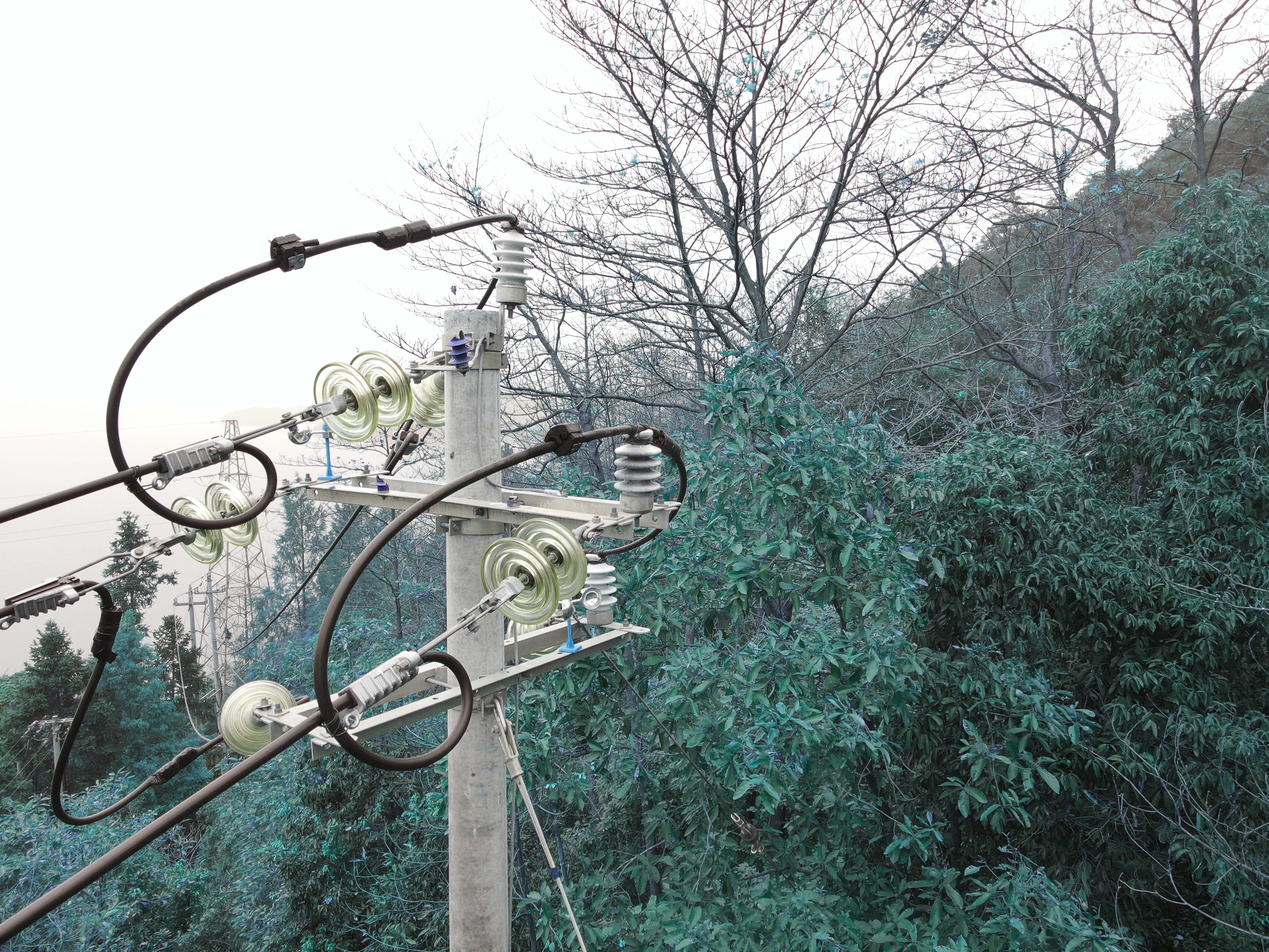severe_soiling_no_discharge_whole: (610, 424, 666, 514)
